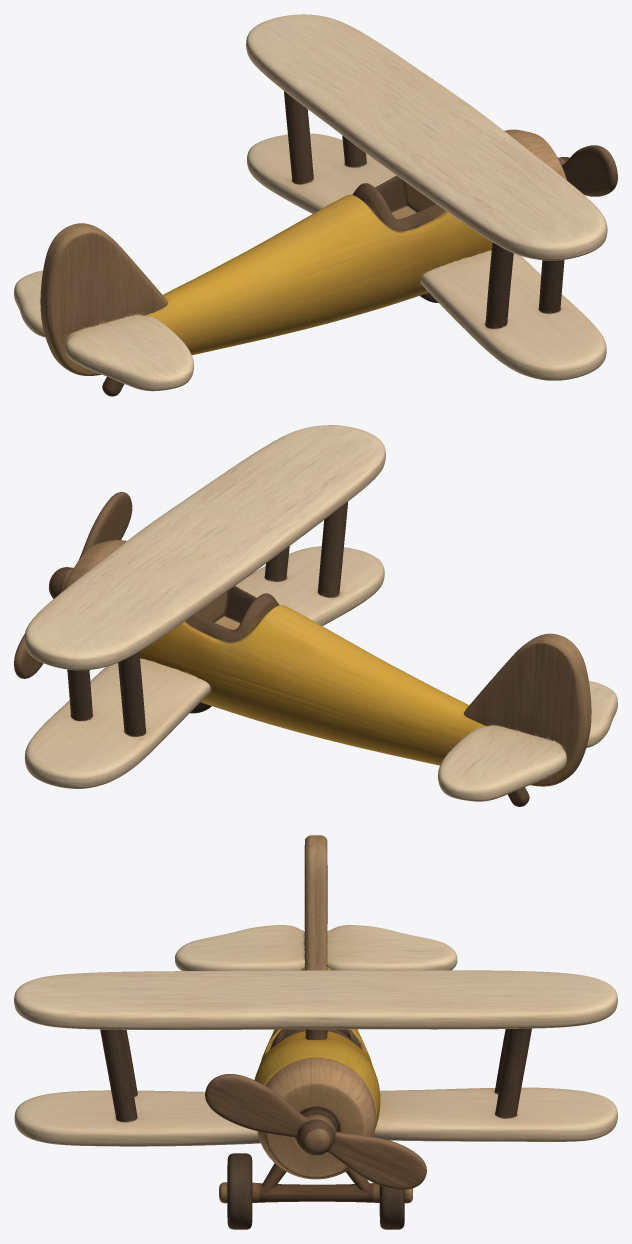
The model's file is plane-toy-2.glb.
The picture shows the model from 3 angles, top to bottom: view 1: azimuth 30°, elevation 25°; view 2: azimuth 150°, elevation 25°; view 3: azimuth 270°, elevation 25°; orthographic projection. The views are drawn at different scales.
Visible parts, largest first — view 1: tripo_node_fbaae2ce-38ec-4573-a70f-ca0d0b34b864; view 2: tripo_node_fbaae2ce-38ec-4573-a70f-ca0d0b34b864; view 3: tripo_node_fbaae2ce-38ec-4573-a70f-ca0d0b34b864.
Part boxes in pixels (x1=…): tripo_node_fbaae2ce-38ec-4573-a70f-ca0d0b34b864: x1=14, y1=14, x2=617, y2=396; tripo_node_fbaae2ce-38ec-4573-a70f-ca0d0b34b864: x1=14, y1=425, x2=617, y2=806; tripo_node_fbaae2ce-38ec-4573-a70f-ca0d0b34b864: x1=14, y1=835, x2=617, y2=1229.
Size of the model in its own units: 0.9798 by 0.38 by 0.9768.
Materials: 1 (1 with a texture image).
